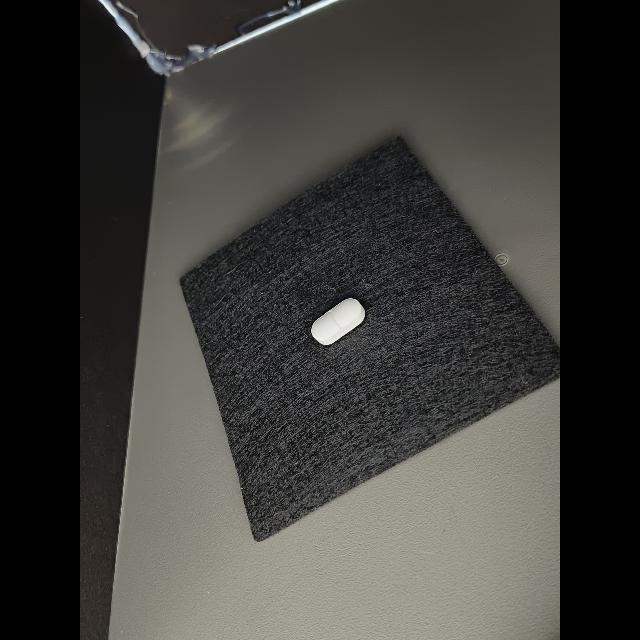Intact Pill: (311, 298, 365, 345)
